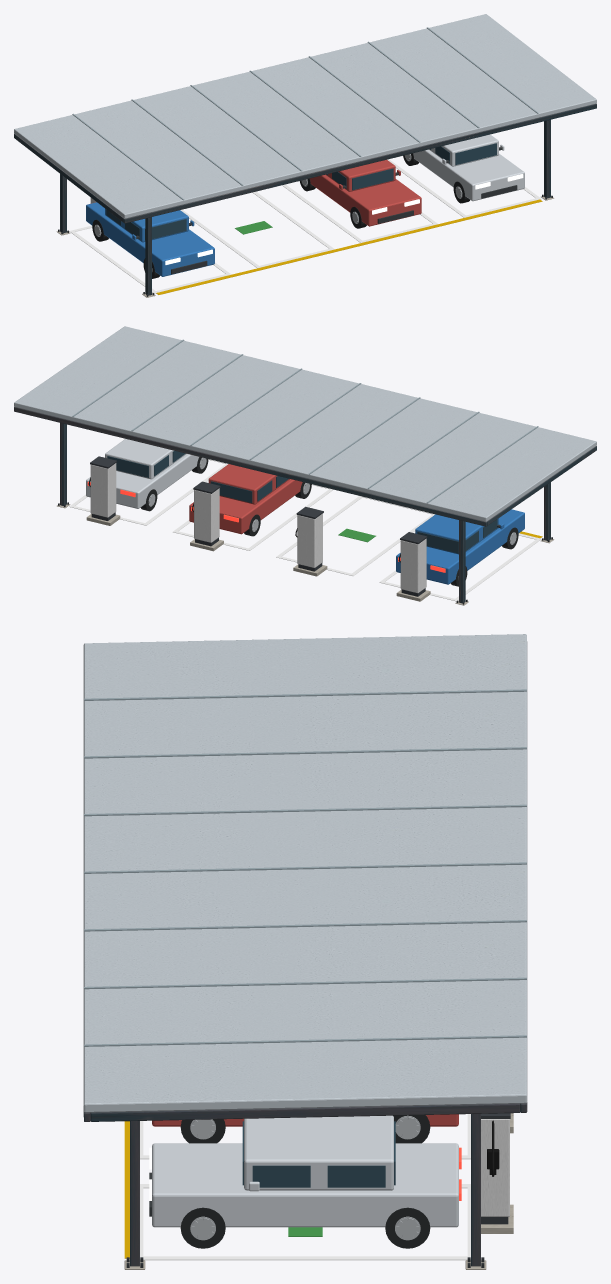
The model's file is charge.glb.
3 renders of one model, top to bottom at view 1: azimuth 30°, elevation 25°; view 2: azimuth 150°, elevation 25°; view 3: azimuth 270°, elevation 25°, orthographic. The views are drawn at different scales.
Visible parts, largest first — view 1: CanopyRoof, ch-cars_blue_body, ch-cars_white_body, ch-cars_red_body, CanopyEdgeBeam_S, edge_line_yellow_south, ch-cars_red_roof, ch-cars_white_roof, ch-cars_blue_roof, CanopyEdgeBeam_W, CanopyColumn_3, CanopyColumn_1 (+4 smaller); view 2: CanopyRoof, CanopyEdgeBeam_N, ch-cars_blue_body, ch-cars_red_body, ch-cars_white_body, ch-piles_p1_body, ch-piles_p4_body, ch-cars_red_roof, ch-cars_white_roof, ch-piles_p3_body, ch-piles_p2_body, ch-cars_blue_roof (+7 smaller); view 3: CanopyRoof, ch-cars_white_body, ch-cars_white_roof, CanopyEdgeBeam_E, ch-piles_p4_body, space04_line_east, CanopyColumn_4, CanopyColumn_3, ch-cars_white_glass_rear_L, CanopyRoofSeam_3, CanopyRoofSeam_6, CanopyRoofSeam_4 (+8 smaller).
Boxes of the visible parts, <box> form: CanopyRoof: <box>14,14,596,218</box>; ch-cars_blue_body: <box>86,202,214,276</box>; ch-cars_white_body: <box>413,149,524,201</box>; ch-cars_red_body: <box>310,174,421,226</box>; CanopyEdgeBeam_S: <box>123,104,596,223</box>; edge_line_yellow_south: <box>156,199,542,294</box>; ch-cars_red_roof: <box>326,159,395,191</box>; ch-cars_white_roof: <box>429,134,498,166</box>; ch-cars_blue_roof: <box>105,209,188,242</box>; CanopyEdgeBeam_W: <box>15,135,123,221</box>; CanopyColumn_3: <box>544,119,550,198</box>; CanopyColumn_1: <box>145,217,151,295</box>; CanopyRoof: <box>14,326,596,521</box>; CanopyEdgeBeam_N: <box>14,407,487,526</box>; ch-cars_blue_body: <box>396,509,524,584</box>; ch-cars_red_body: <box>189,479,302,534</box>; ch-cars_white_body: <box>86,454,198,508</box>; ch-piles_p1_body: <box>400,538,426,593</box>; ch-piles_p4_body: <box>90,463,116,517</box>; ch-cars_red_roof: <box>208,464,289,504</box>; ch-cars_white_roof: <box>105,439,186,479</box>; ch-piles_p3_body: <box>194,488,219,542</box>; ch-piles_p2_body: <box>297,513,322,567</box>; ch-cars_blue_roof: <box>415,514,498,554</box>; CanopyRoof: <box>83,634,527,1112</box>; ch-cars_white_body: <box>152,1143,458,1227</box>; ch-cars_white_roof: <box>244,1115,393,1190</box>; CanopyEdgeBeam_E: <box>90,1103,520,1121</box>; ch-piles_p4_body: <box>481,1119,509,1216</box>; space04_line_east: <box>140,1256,470,1260</box>; CanopyColumn_4: <box>471,1114,480,1266</box>; CanopyColumn_3: <box>130,1121,139,1266</box>; ch-cars_white_glass_rear_L: <box>327,1165,385,1187</box>; CanopyRoofSeam_3: <box>84,804,526,816</box>; CanopyRoofSeam_6: <box>84,977,526,989</box>; CanopyRoofSeam_4: <box>84,862,526,873</box>.
Size of the model in its own units: 16 by 3.37 by 6.5.
Materials: 24 (4 with a texture image).
